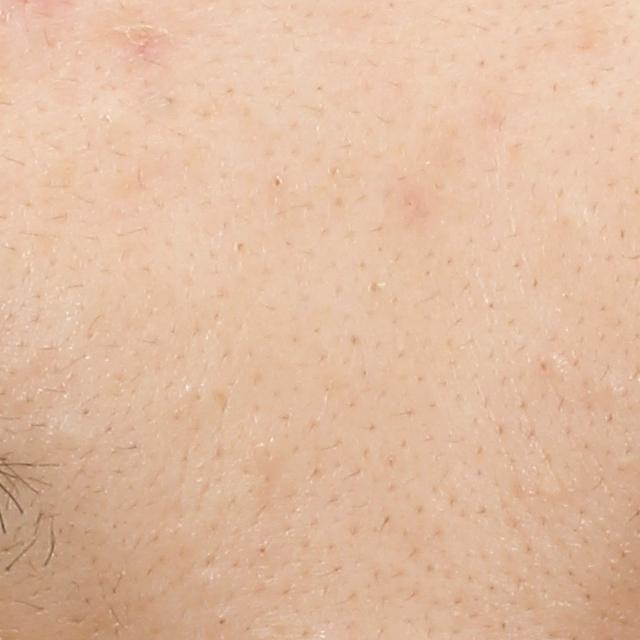comedo: (211, 608, 231, 629), (270, 173, 286, 190)
